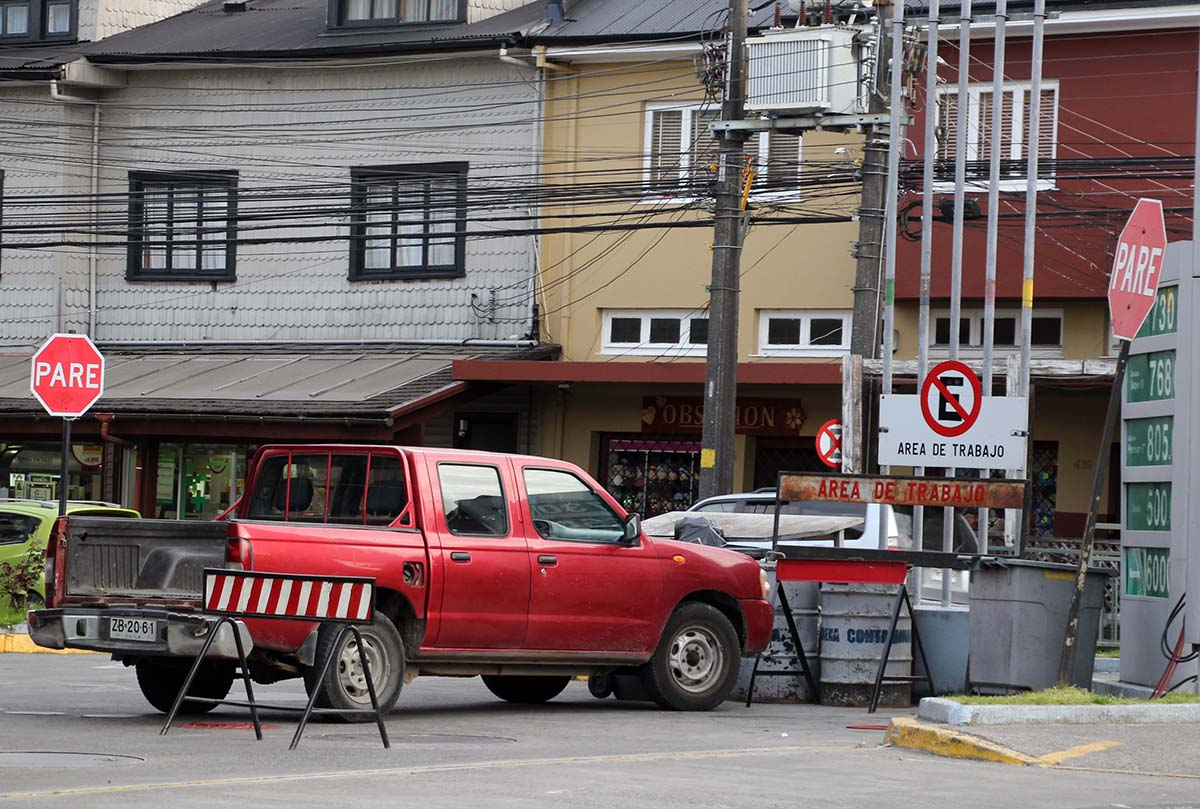stop: (1107, 198, 1165, 342), (26, 335, 104, 416)
